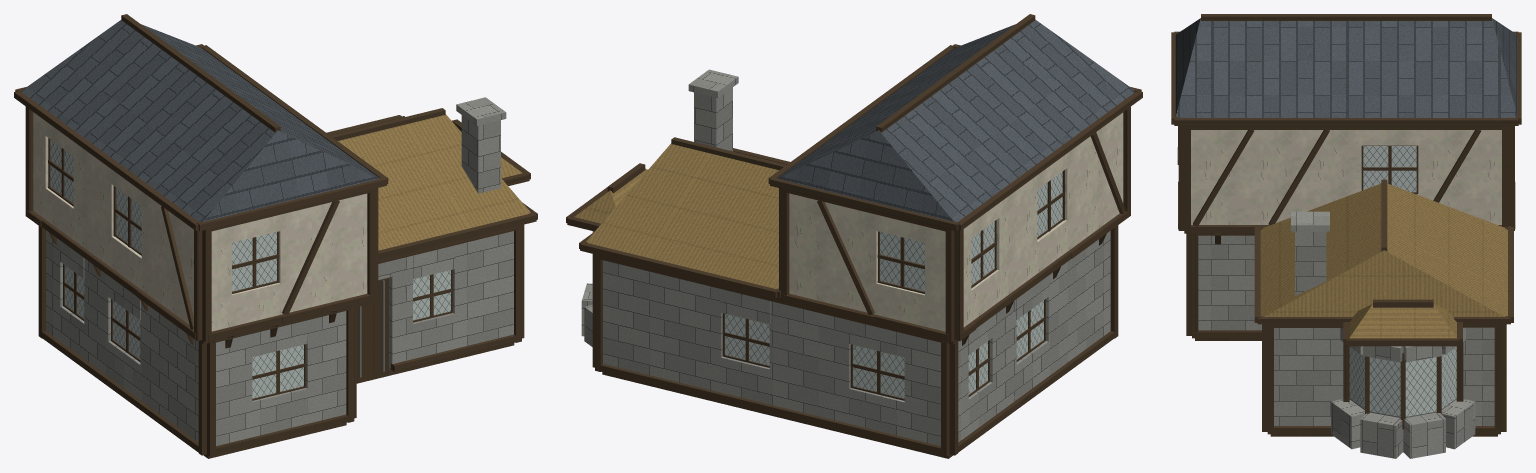
The model's file is lodge.glb.
3 renders of one model, left to right at view 1: azimuth 30°, elevation 25°; view 2: azimuth 150°, elevation 25°; view 3: azimuth 270°, elevation 25°, orthographic. The views are drawn at different scales.
Visible parts, largest first — view 1: Lodge_GroundShell_Light_gray_limestone, Lodge_Roof_Blue_gray_slate, Lodge_UpperShell_Oat_plaster, Lodge_Roof_Muted_wheat_thatch, Lodge_GroundShell_Warm_oak, Lodge_UpperShell_Warm_oak, Lodge_Roof_Warm_oak, Lodge_Glazing_Muted_old_glass, Lodge_Chimney_Light_gray_limestone, Lodge_Glazing_Leads, Lodge_Door_Warm_oak, Lodge_GroundFloor_Warm_oak; view 2: Lodge_GroundShell_Light_gray_limestone, Lodge_Roof_Blue_gray_slate, Lodge_UpperShell_Oat_plaster, Lodge_Roof_Muted_wheat_thatch, Lodge_GroundShell_Warm_oak, Lodge_UpperShell_Warm_oak, Lodge_Roof_Warm_oak, Lodge_Glazing_Muted_old_glass, Lodge_Glazing_Leads, Lodge_Chimney_Light_gray_limestone, Lodge_GroundFloor_Warm_oak; view 3: Lodge_Roof_Blue_gray_slate, Lodge_Roof_Muted_wheat_thatch, Lodge_GroundShell_Light_gray_limestone, Lodge_UpperShell_Oat_plaster, Lodge_Roof_Warm_oak, Lodge_GroundShell_Warm_oak, Lodge_UpperShell_Warm_oak, Lodge_Glazing_Muted_old_glass, Lodge_Glazing_Leads, Lodge_Chimney_Light_gray_limestone, Lodge_GroundFloor_Warm_oak.
Boxes of the visible parts, x1,y1,x2,y2 form: Lodge_GroundShell_Light_gray_limestone: (46,230,513,445); Lodge_Roof_Blue_gray_slate: (22,20,379,221); Lodge_UpperShell_Oat_plaster: (33,112,367,331); Lodge_Roof_Muted_wheat_thatch: (338,114,530,250); Lodge_GroundShell_Warm_oak: (38,224,524,456); Lodge_UpperShell_Warm_oak: (25,106,378,342); Lodge_Roof_Warm_oak: (14,14,537,259); Lodge_Glazing_Muted_old_glass: (50,140,450,398); Lodge_Chimney_Light_gray_limestone: (456,97,506,193); Lodge_Glazing_Leads: (50,139,450,397); Lodge_Door_Warm_oak: (356,278,388,377); Lodge_GroundFloor_Warm_oak: (204,343,514,458); Lodge_GroundShell_Light_gray_limestone: (581,231,1110,445); Lodge_Roof_Blue_gray_slate: (777,19,1134,221); Lodge_UpperShell_Oat_plaster: (789,112,1123,331); Lodge_Roof_Muted_wheat_thatch: (574,143,778,288); Lodge_GroundShell_Warm_oak: (592,225,1118,456); Lodge_UpperShell_Warm_oak: (779,107,1130,341); Lodge_Roof_Warm_oak: (566,14,1142,298); Lodge_Glazing_Muted_old_glass: (725,171,1062,398); Lodge_Glazing_Leads: (724,172,1062,398); Lodge_Chimney_Light_gray_limestone: (688,69,738,151); Lodge_GroundFloor_Warm_oak: (602,372,952,458); Lodge_Roof_Blue_gray_slate: (1175,18,1517,117); Lodge_Roof_Muted_wheat_thatch: (1260,183,1507,338); Lodge_GroundShell_Light_gray_limestone: (1198,235,1494,458); Lodge_UpperShell_Oat_plaster: (1191,130,1501,224); Lodge_Roof_Warm_oak: (1171,14,1521,346); Lodge_GroundShell_Warm_oak: (1186,233,1506,434); Lodge_UpperShell_Warm_oak: (1177,126,1515,233); Lodge_Glazing_Muted_old_glass: (1349,146,1456,416); Lodge_Glazing_Leads: (1349,146,1456,417); Lodge_Chimney_Light_gray_limestone: (1291,211,1329,295); Lodge_GroundFloor_Warm_oak: (1195,338,1497,452).
Bounding box in the file's own units: 12.47 × 8.61 × 9.26.
30 materials, 9 textured.
